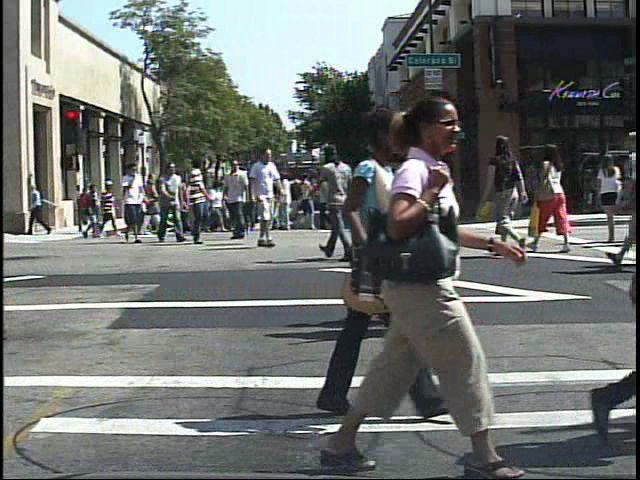person: (303, 87, 510, 480), (364, 135, 475, 340), (409, 127, 465, 338), (312, 134, 365, 266), (347, 144, 397, 263), (531, 138, 574, 258), (489, 134, 532, 248), (243, 144, 281, 251), (175, 154, 213, 247), (155, 158, 188, 247), (117, 158, 148, 246), (596, 149, 622, 243), (95, 177, 120, 241), (77, 182, 97, 233)
